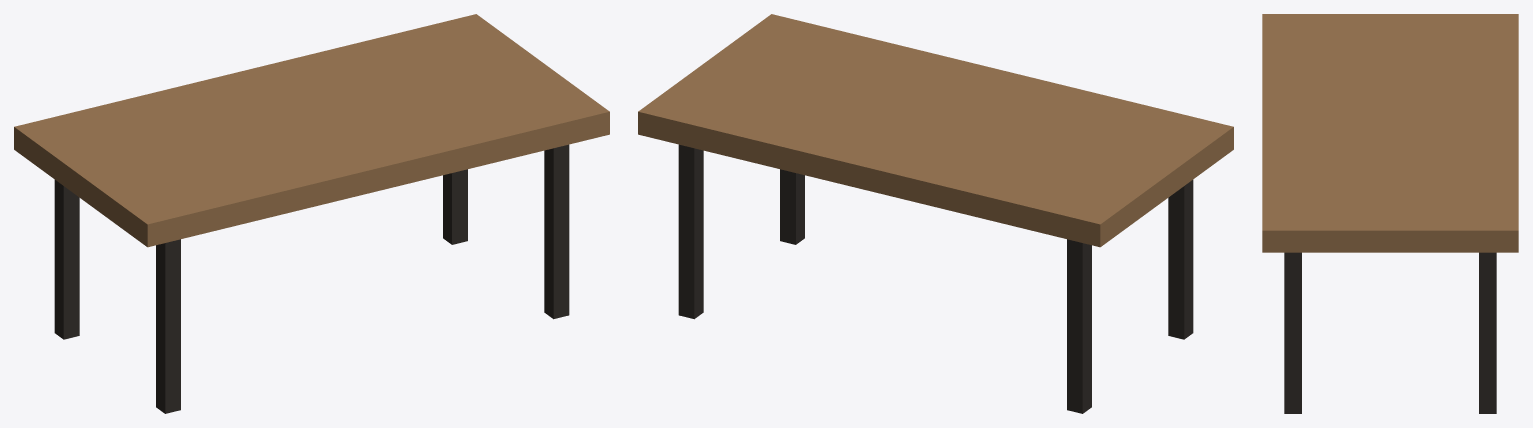
The model's file is nova.glb.
3 renders of one model, left to right at view 1: azimuth 30°, elevation 25°; view 2: azimuth 150°, elevation 25°; view 3: azimuth 270°, elevation 25°, orthographic. The views are drawn at different scales.
Parts seen in each view (by area): view 1: table-top, leg-4, leg-3, leg-1, leg-2; view 2: table-top, leg-2, leg-1, leg-3, leg-4; view 3: table-top, leg-2, leg-4.
Part boxes in pixels (x1=…): table-top: x1=14, y1=14, x2=609, y2=247; leg-4: x1=544, y1=144, x2=569, y2=319; leg-3: x1=156, y1=239, x2=180, y2=413; leg-1: x1=54, y1=180, x2=79, y2=339; leg-2: x1=443, y1=169, x2=467, y2=244; table-top: x1=638, y1=14, x2=1233, y2=247; leg-2: x1=678, y1=144, x2=703, y2=319; leg-1: x1=1067, y1=239, x2=1091, y2=413; leg-3: x1=1168, y1=180, x2=1193, y2=339; leg-4: x1=780, y1=169, x2=804, y2=244; table-top: x1=1262, y1=14, x2=1518, y2=252; leg-2: x1=1479, y1=252, x2=1496, y2=413; leg-4: x1=1284, y1=252, x2=1301, y2=413.
Size of the model in its own units: 1.9 by 0.805 by 0.95.
